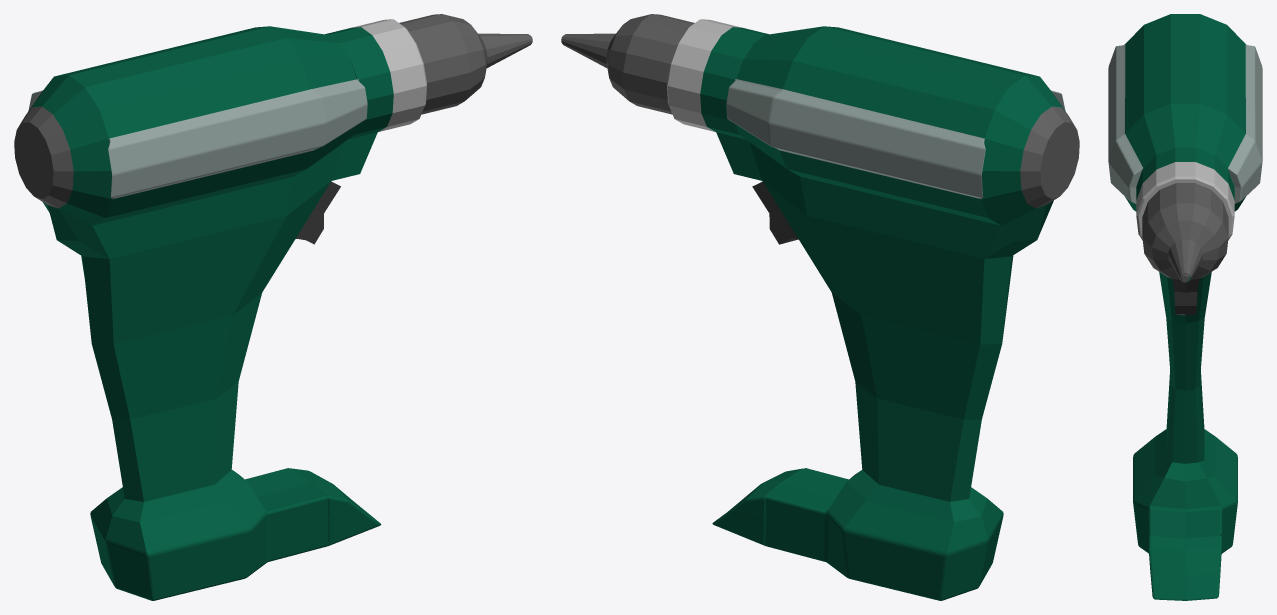
File: Power_drill.fbx
3 renders of one model, left to right at view 1: azimuth 30°, elevation 25°; view 2: azimuth 150°, elevation 25°; view 3: azimuth 270°, elevation 25°, orthographic. The views are drawn at different scales.
Parts seen in each view (by area): view 1: Cylinder; view 2: Cylinder; view 3: Cylinder.
Boxes of the visible parts, bbox=[...] form: Cylinder: bbox=[14, 14, 532, 600]; Cylinder: bbox=[561, 14, 1079, 600]; Cylinder: bbox=[1108, 14, 1262, 600].
Size of the model in its own units: 88.56 by 88.09 by 26.05.
